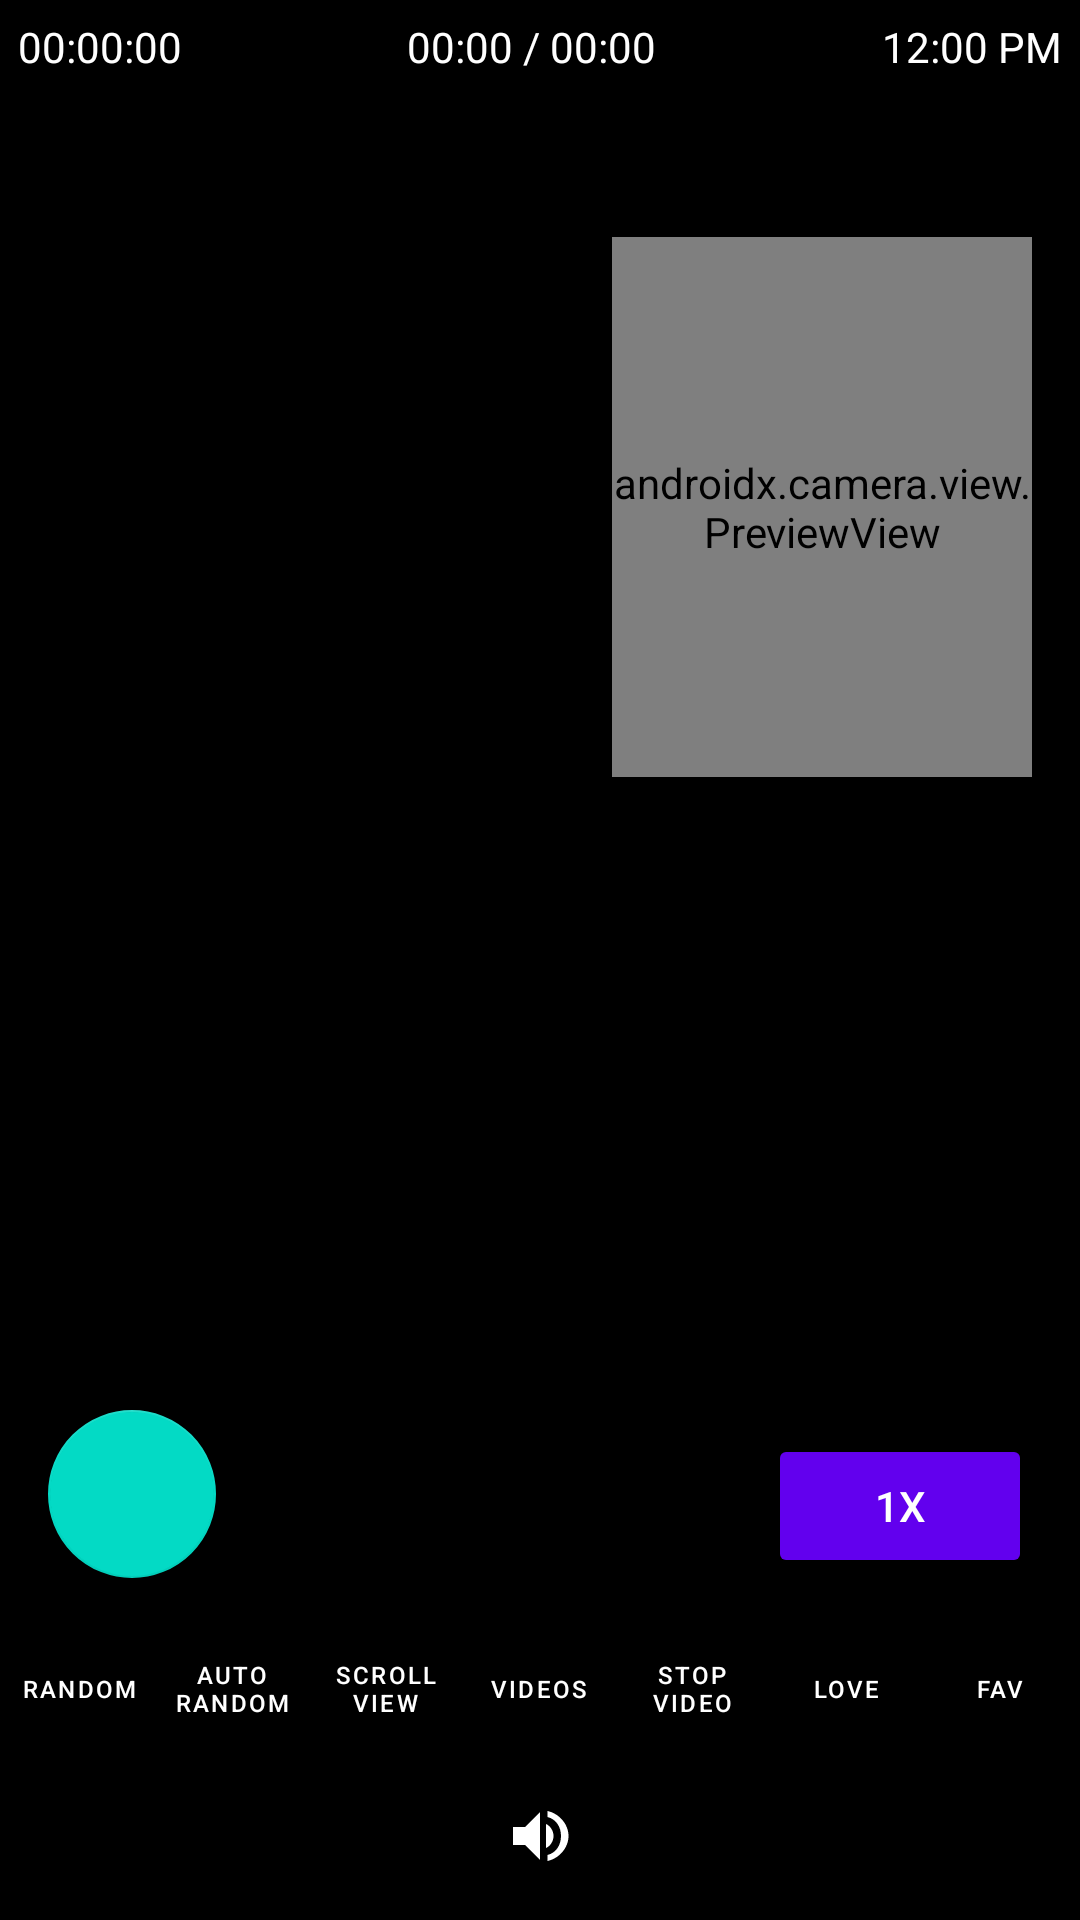

Icon click points for this 1080×1920 phone screenshot, format (x=x, y=y):
Mute/Unmute: (x=541, y=1836)
